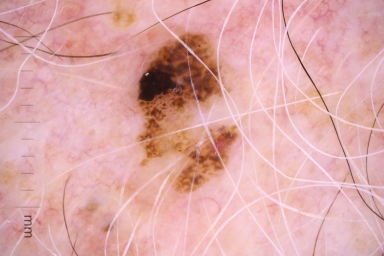melanoma: (139, 32, 237, 193)
